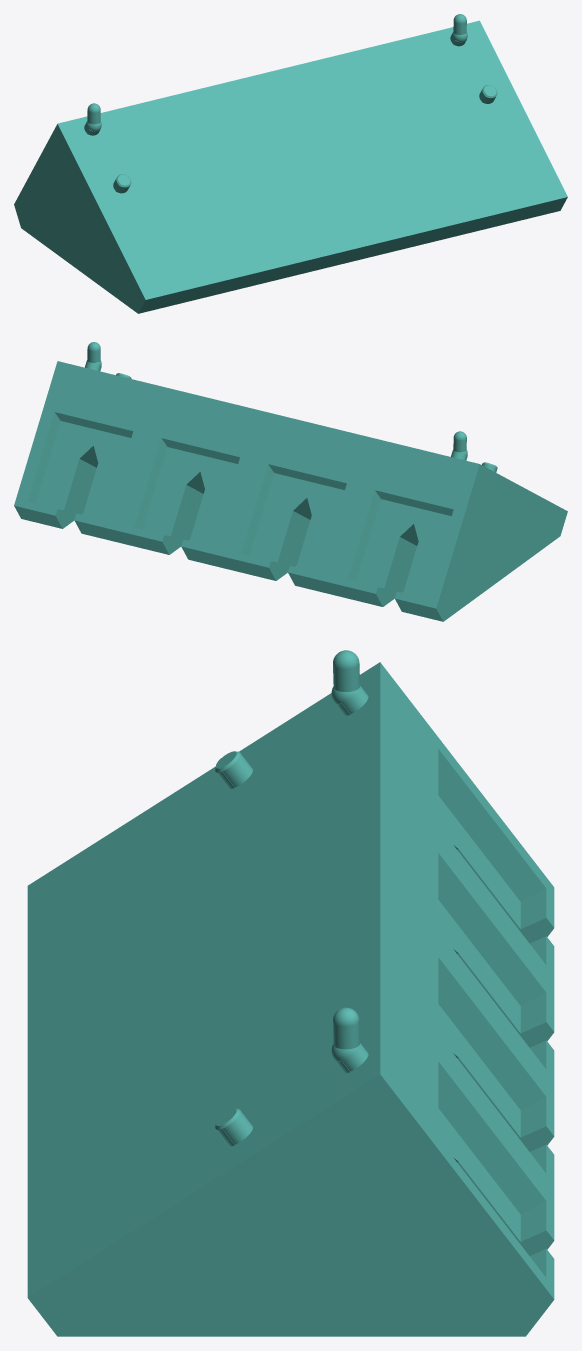
The model's file is part-sd03__v3__flat-b-print.glb.
3 renders of one model, top to bottom at view 1: azimuth 30°, elevation 25°; view 2: azimuth 150°, elevation 25°; view 3: azimuth 270°, elevation 25°, orthographic. The views are drawn at different scales.
Visible parts, largest first — view 1: Actual holder mesh; view 2: Actual holder mesh; view 3: Actual holder mesh.
Boxes of the visible parts, left/top/right/bottom form: Actual holder mesh: left=14, top=14, right=567, bottom=313; Actual holder mesh: left=14, top=342, right=567, bottom=621; Actual holder mesh: left=27, top=650, right=554, bottom=1336.
Bounding box in the file's own units: 0.1758 × 0.0597 × 0.095.
